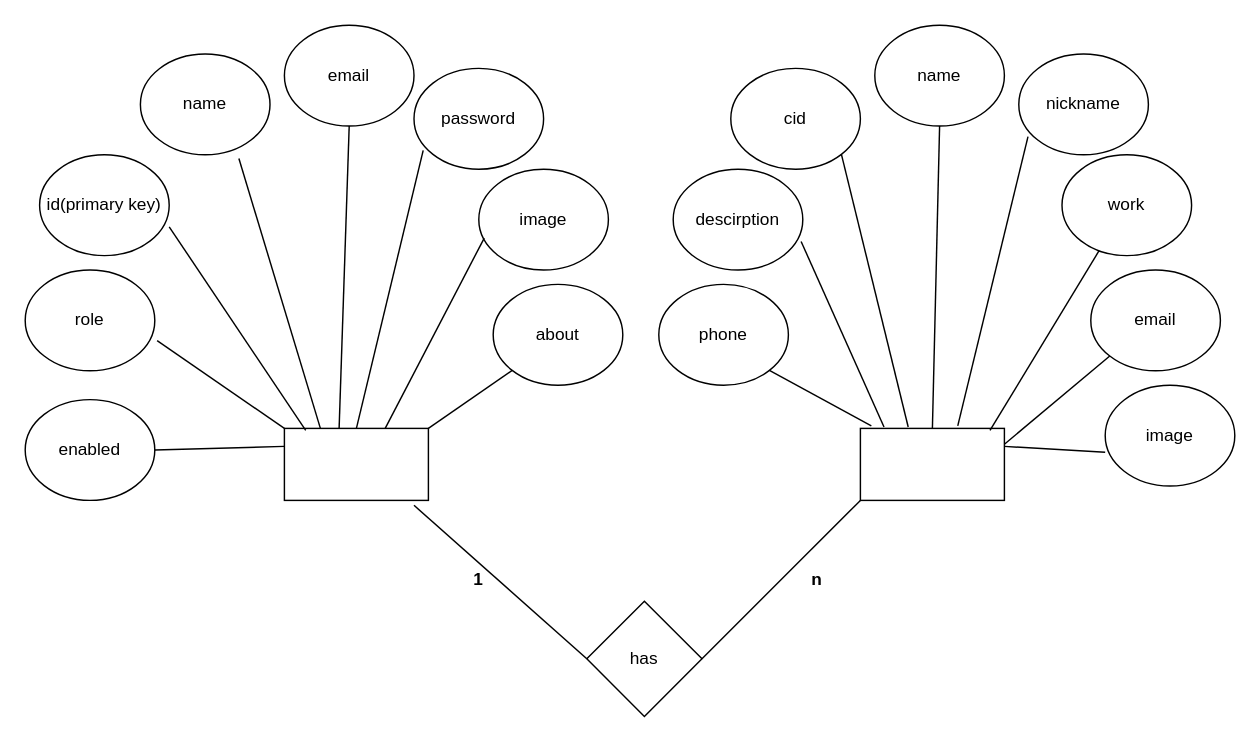
The diagram is 1260 pixels wide and 742 high, and some of its shapes have lost their labels. Here are the shapes that lost their labels. From the top down, the centre of each, then its label:
point 355,463: USER
point 931,463: CONTACT
